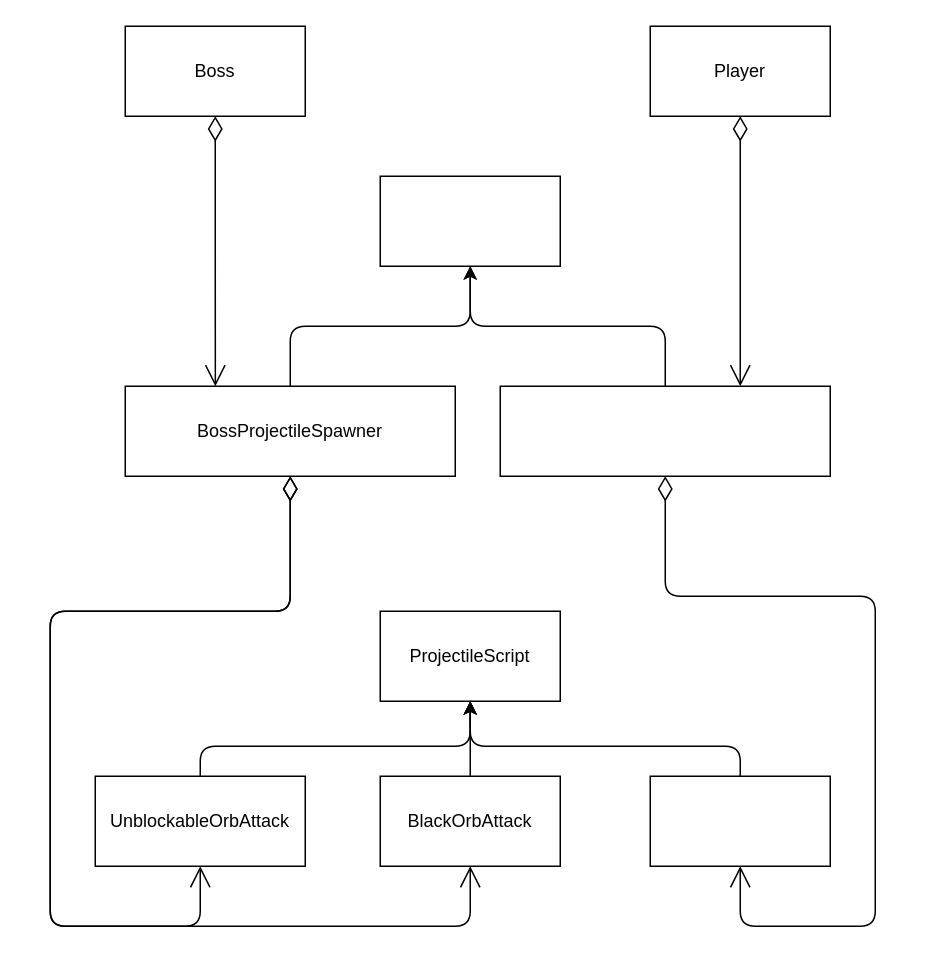
Some shapes in this 927 by 978 pixel diagram are drawn without their labels. Here are the shapes that lost their labels. From the top down, the centre of each, then its label:
the point at 469,220: ProjectileSpawner
the point at 664,430: PlayerProjectileSpawner
the point at 739,820: ArrowProjectile
